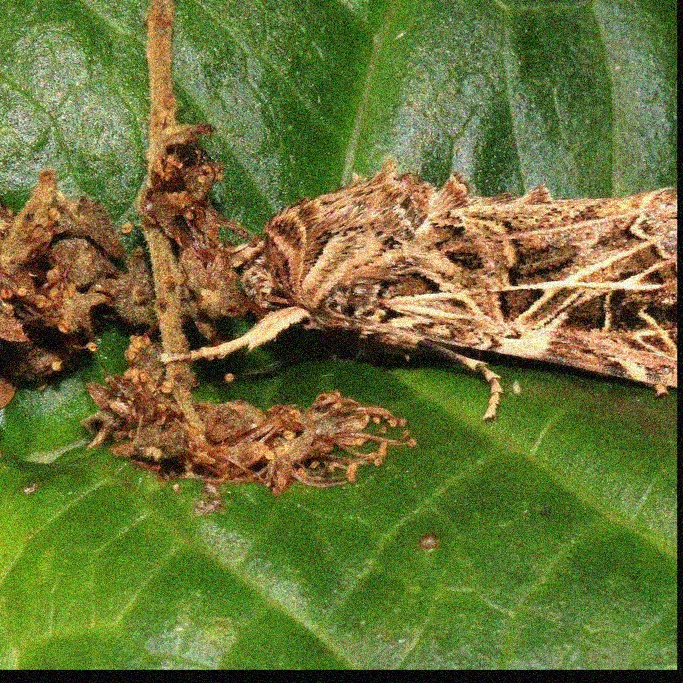Spodoptera litura: (157, 150, 677, 422)
